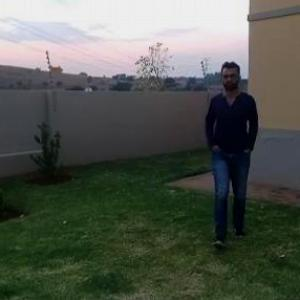follow: (203, 59, 261, 231)
